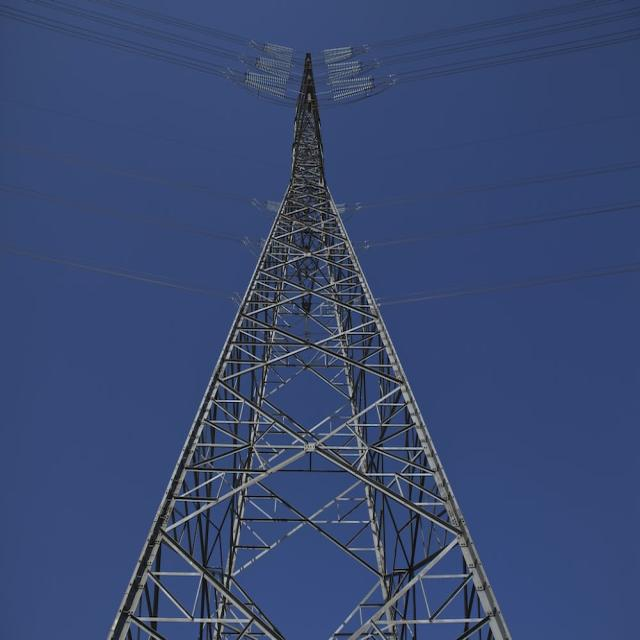insulator: (322, 42, 399, 112), (229, 31, 293, 102)
transmission tower: (140, 44, 514, 634)
